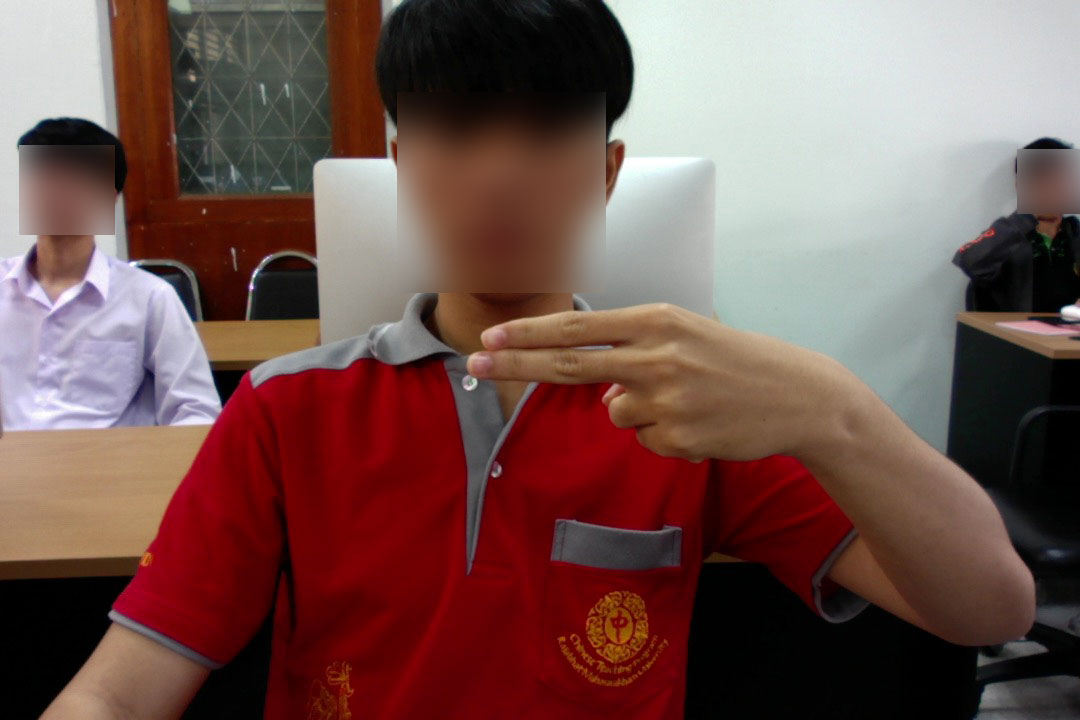hor: (448, 290, 863, 467)
